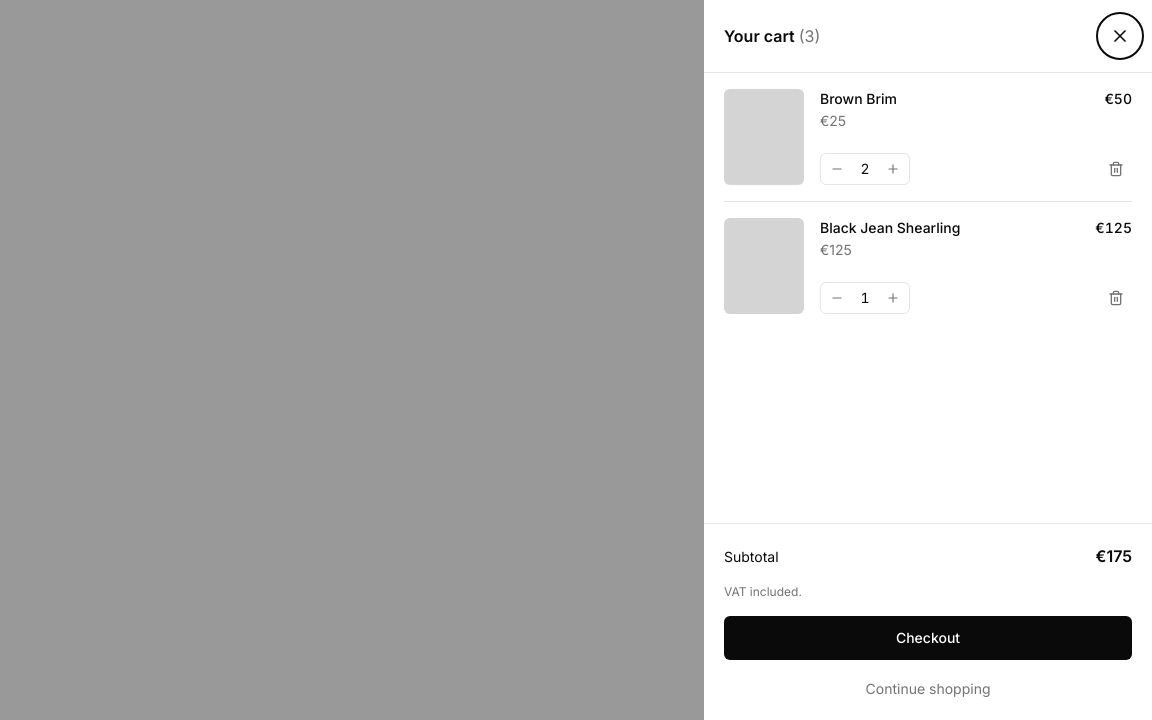
Test: CartDrawer › changes quantities and removes lines
Click the button named "Increase quantity of Brown Brim" at (893, 169), box [877, 153, 909, 185]
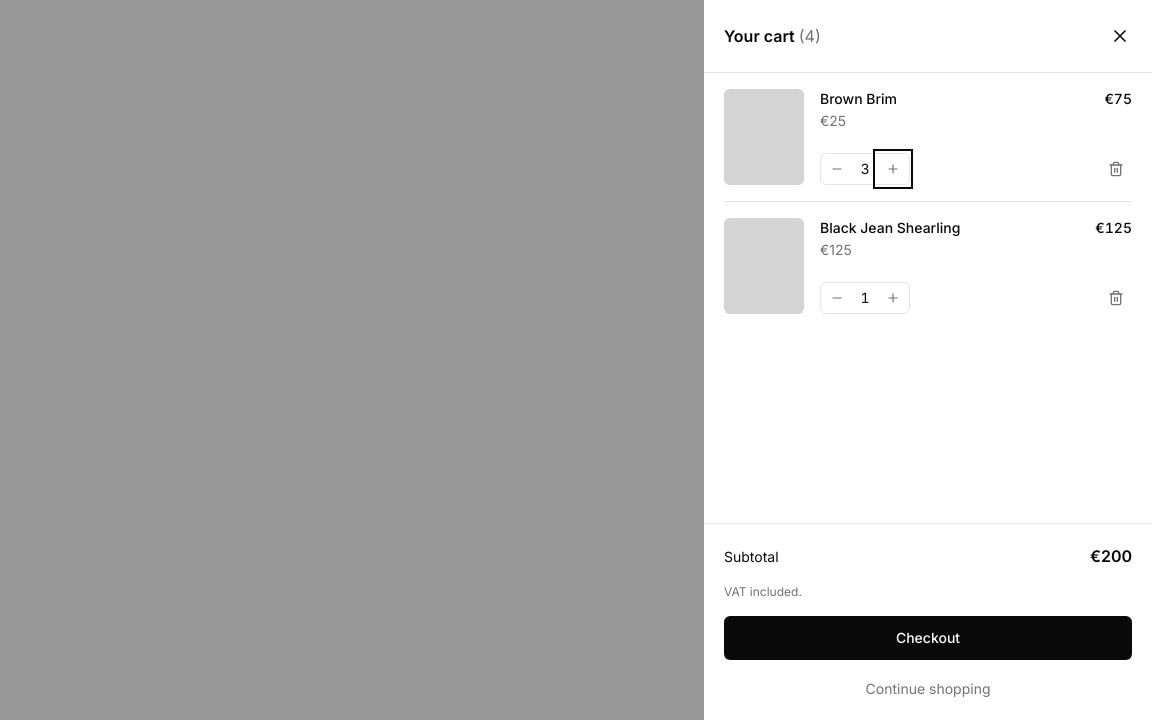
Expected: the text "€200" is shown, [1090, 544, 1132, 568]
Note: At quantity 1 the minus button removes the line.
Click the button named "Remove Black Jean Shearling" at (837, 298), box [821, 282, 853, 314]
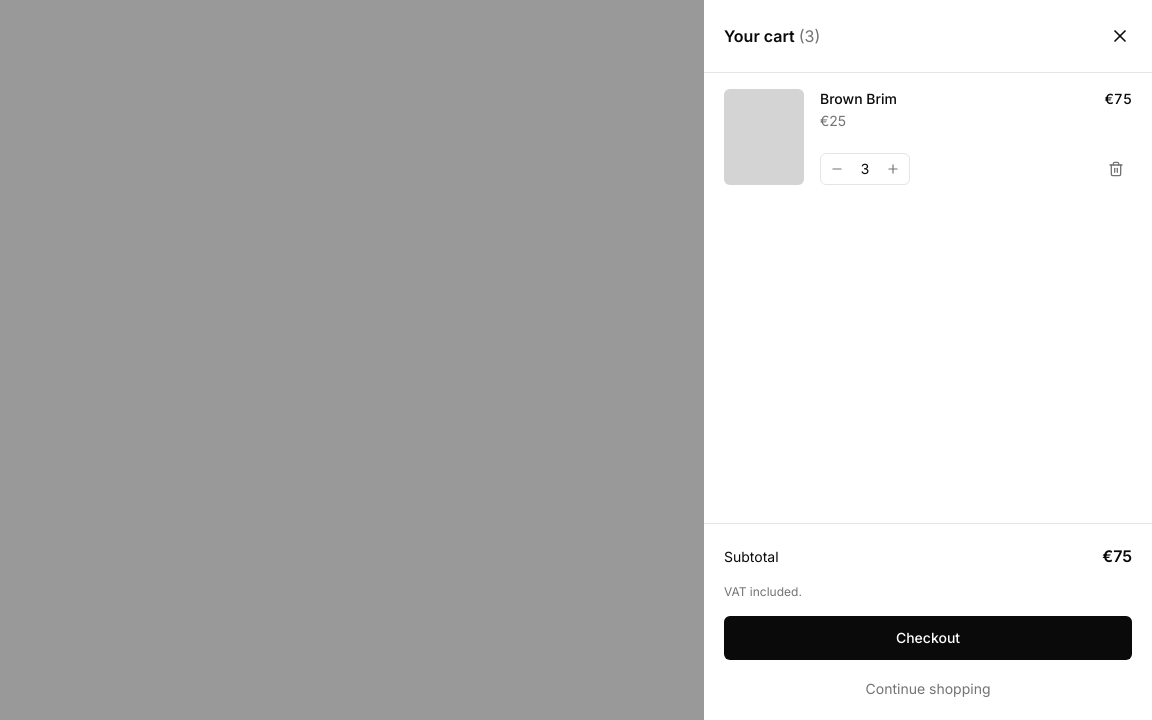
Expected: the text "Black Jean Shearling" is gone
Click the button named "Remove Brown Brim from cart" at (1116, 169), box [1100, 153, 1132, 185]
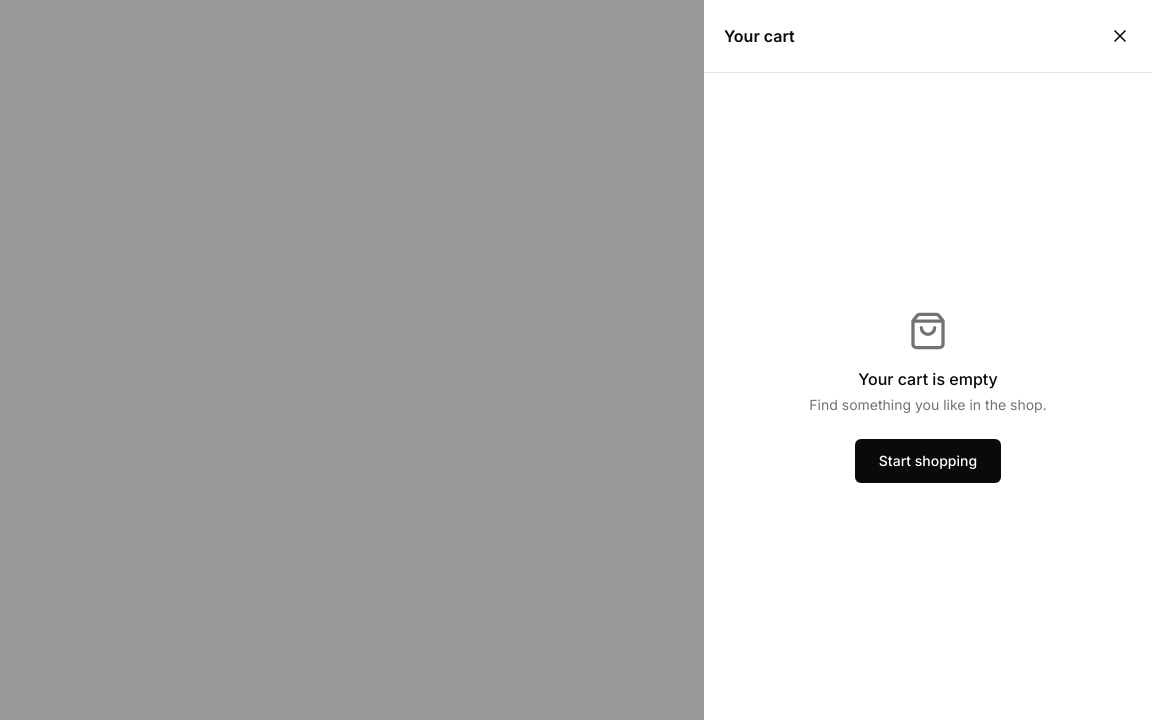
Expected: the text "Your cart is empty" is shown, [858, 368, 998, 388]
